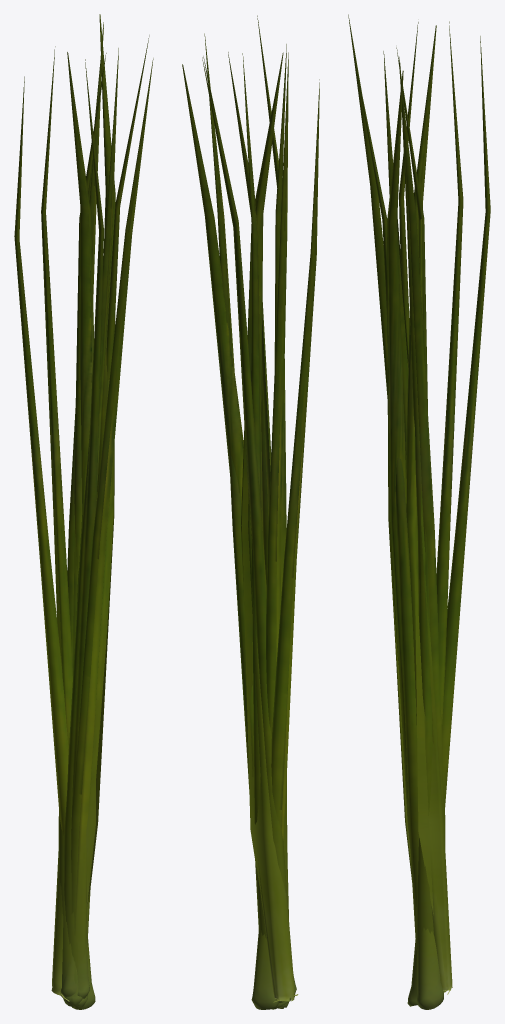
File: ajo_planta.fbx
3 renders of one model, left to right at view 1: azimuth 90°, elevation 25°; view 2: azimuth 210°, elevation 25°; view 3: azimuth 270°, elevation 25°, orthographic. The views are drawn at different scales.
Parts seen in each view (by area): view 1: Scallion; view 2: Scallion; view 3: Scallion.
Part boxes in pixels (left/top/right/bottom): Scallion: left=14, top=14, right=153, bottom=1009; Scallion: left=182, top=15, right=319, bottom=1009; Scallion: left=348, top=14, right=490, bottom=1009.
Size of the model in its own units: 8.53 by 68.59 by 9.
2 materials, 2 textured.
